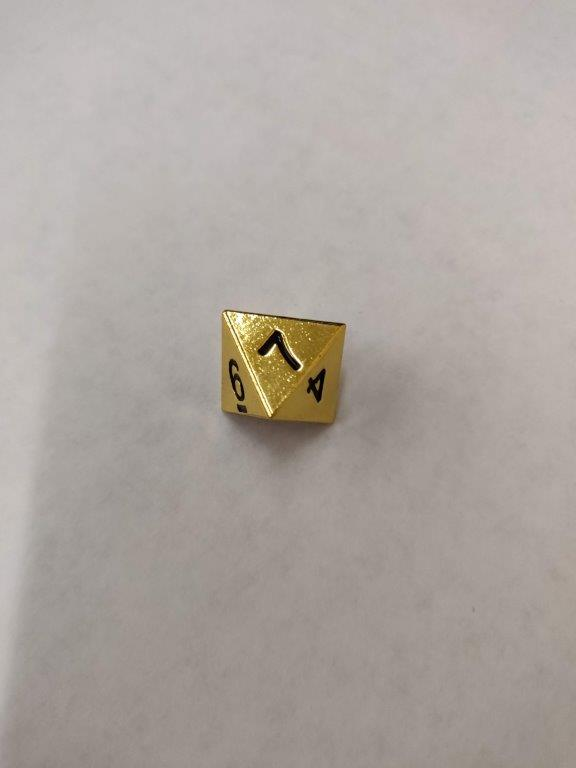d8-7: (219, 308, 347, 431)
